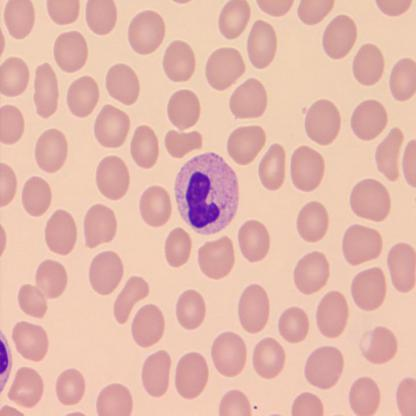Band Neutrophil: (172, 148, 241, 238)
